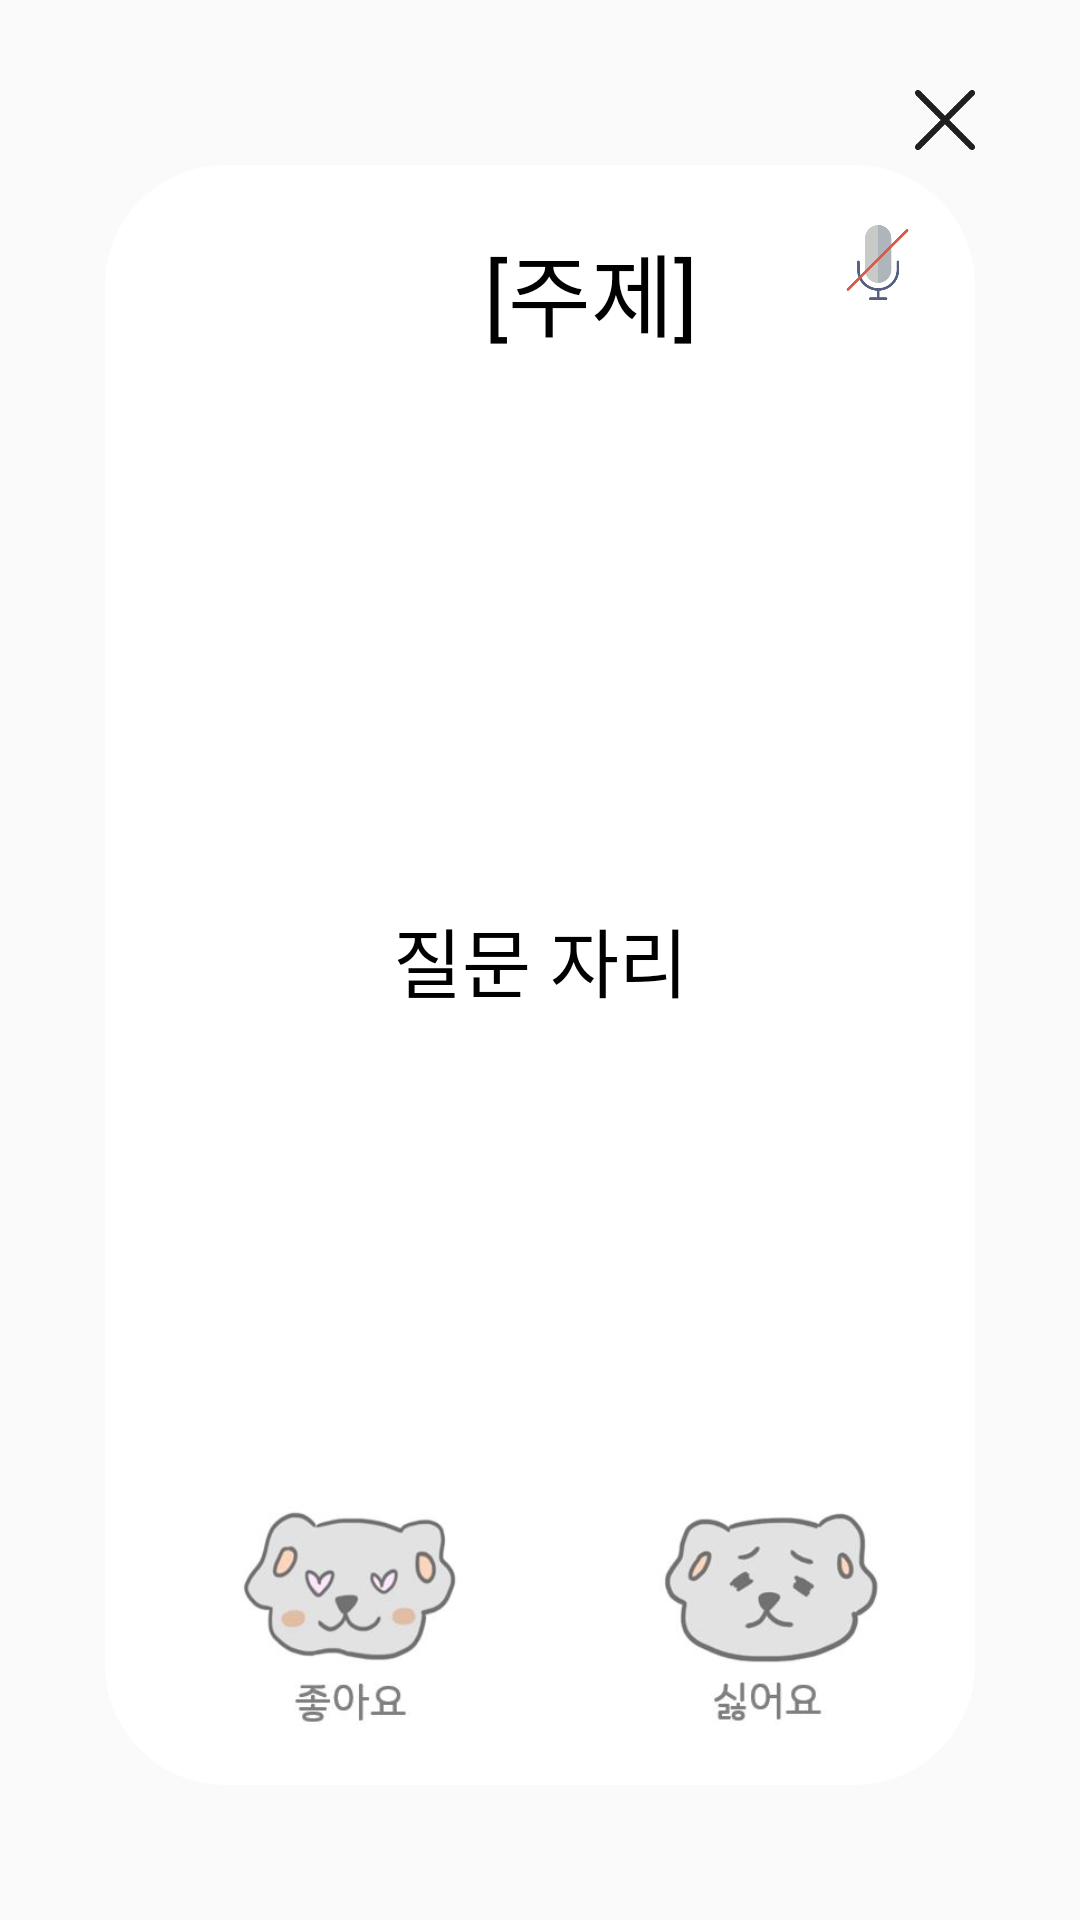

Icon bounding boxes for this 1080w x 1920h phone screenshot, format (x1, y1, x2, y2):
audio off: (846, 225, 909, 300)
close tutorial: (915, 90, 975, 150)
